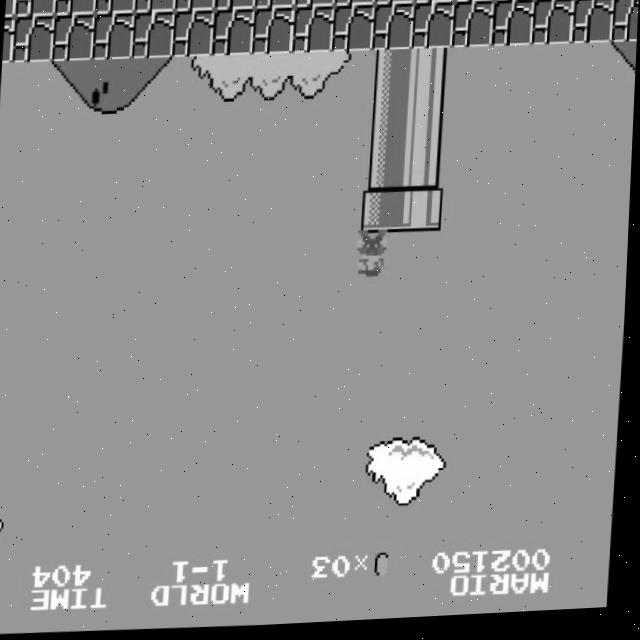11- little_mario: (352, 233, 398, 284)
14- pipe: (406, 97, 450, 146), (409, 51, 453, 100), (364, 144, 408, 192), (366, 98, 410, 146), (369, 53, 413, 101), (404, 144, 448, 191)
15- pipe_head: (362, 189, 405, 238), (402, 189, 445, 237)
17- undestructible_block: (571, 2, 615, 51), (531, 3, 575, 51), (491, 4, 535, 52), (452, 4, 495, 53), (412, 5, 455, 54), (332, 7, 375, 56), (292, 8, 335, 57), (252, 9, 295, 58), (212, 10, 255, 59), (172, 11, 215, 60), (132, 12, 175, 61), (92, 13, 135, 62), (372, 7, 415, 55), (52, 14, 95, 62), (12, 15, 55, 63), (611, 1, 639, 49), (54, 0, 96, 17), (14, 0, 56, 17), (94, 0, 136, 16), (2, 17, 16, 63), (174, 0, 216, 14), (134, 0, 176, 14), (214, 0, 256, 13), (254, 0, 296, 12), (294, 0, 336, 11), (374, 0, 416, 10), (334, 0, 376, 10), (414, 0, 456, 9), (494, 0, 536, 7), (454, 0, 496, 7), (534, 0, 576, 6), (574, 0, 616, 5), (4, 0, 16, 17), (614, 0, 640, 4)
